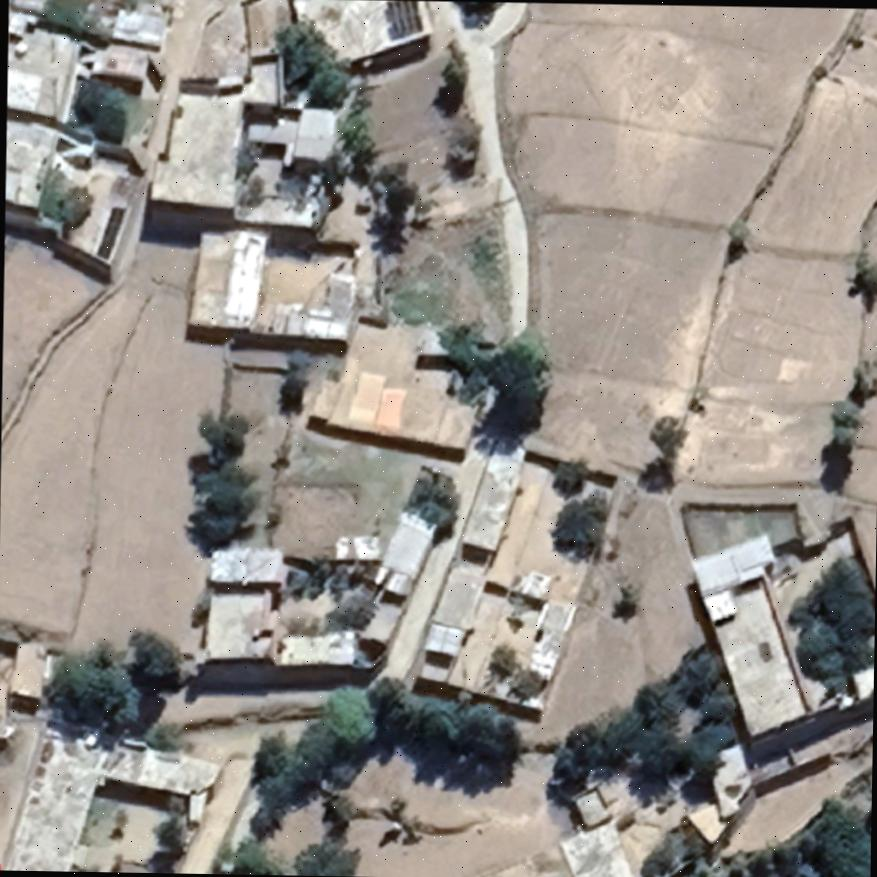Solarpanel: (380, 0, 424, 39)
